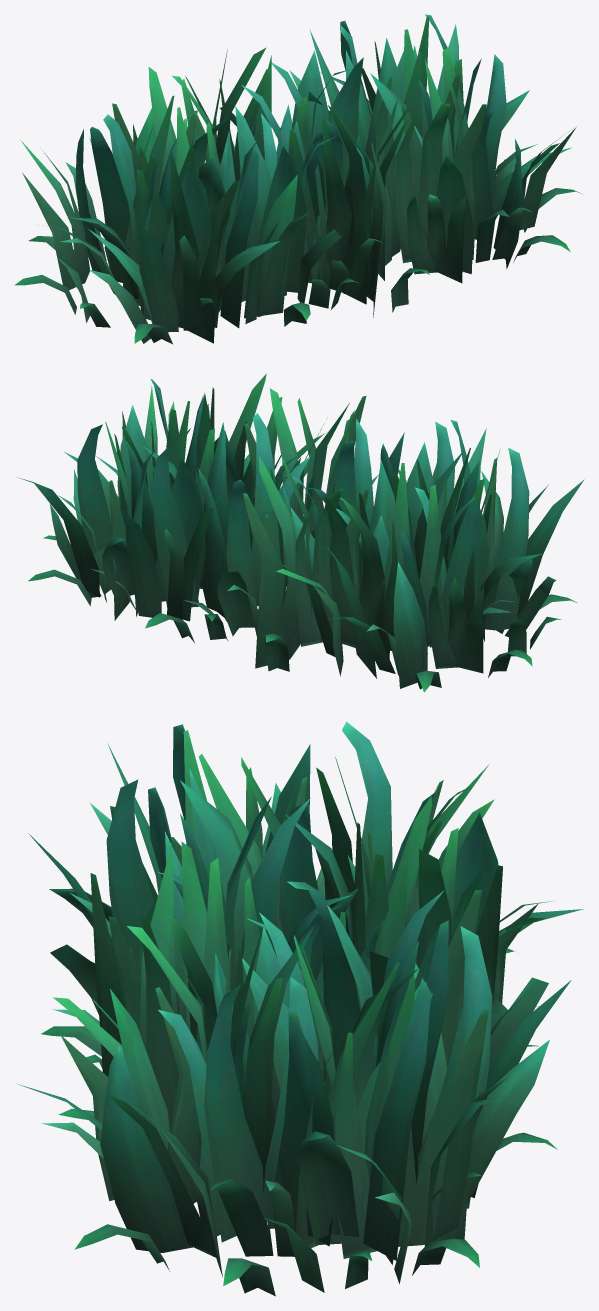
Rendered from pref_sm_beach_techgrass_alpha_02_lv2.fbx.
3 renders of one model, top to bottom at view 1: azimuth 30°, elevation 25°; view 2: azimuth 150°, elevation 25°; view 3: azimuth 270°, elevation 25°, orthographic. The views are drawn at different scales.
Visible parts, largest first — view 1: pref_sm_beach_techgrass_alpha_02_lv2; view 2: pref_sm_beach_techgrass_alpha_02_lv2; view 3: pref_sm_beach_techgrass_alpha_02_lv2.
Boxes of the visible parts, bbox=[...] form: pref_sm_beach_techgrass_alpha_02_lv2: bbox=[14, 14, 581, 344]; pref_sm_beach_techgrass_alpha_02_lv2: bbox=[17, 373, 584, 692]; pref_sm_beach_techgrass_alpha_02_lv2: bbox=[16, 721, 583, 1296].
Size of the model in its own units: 4.82 by 1.81 by 3.
